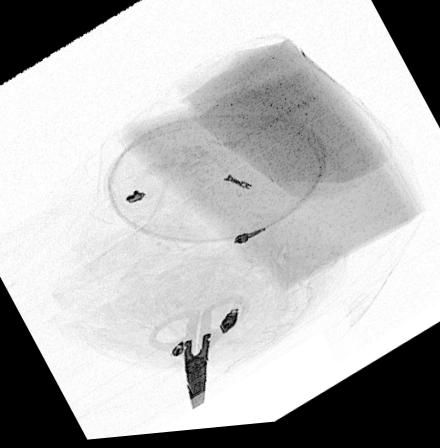Scissors: (145, 297, 252, 414)
